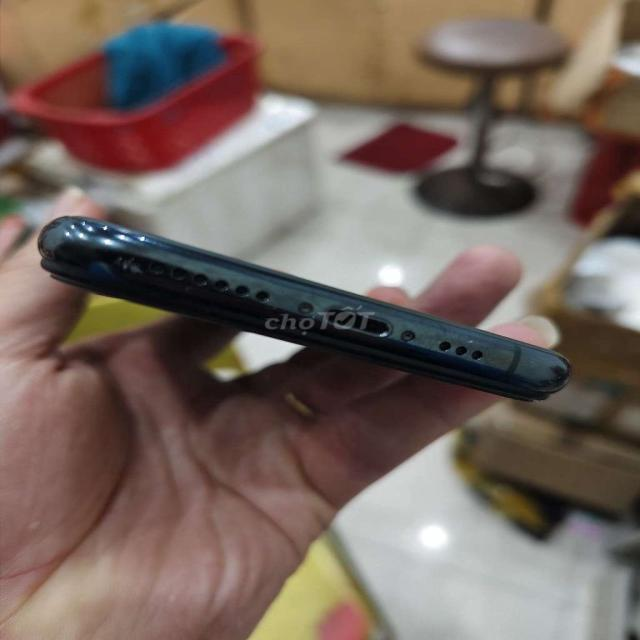physical_damage: (84, 237, 174, 286)
